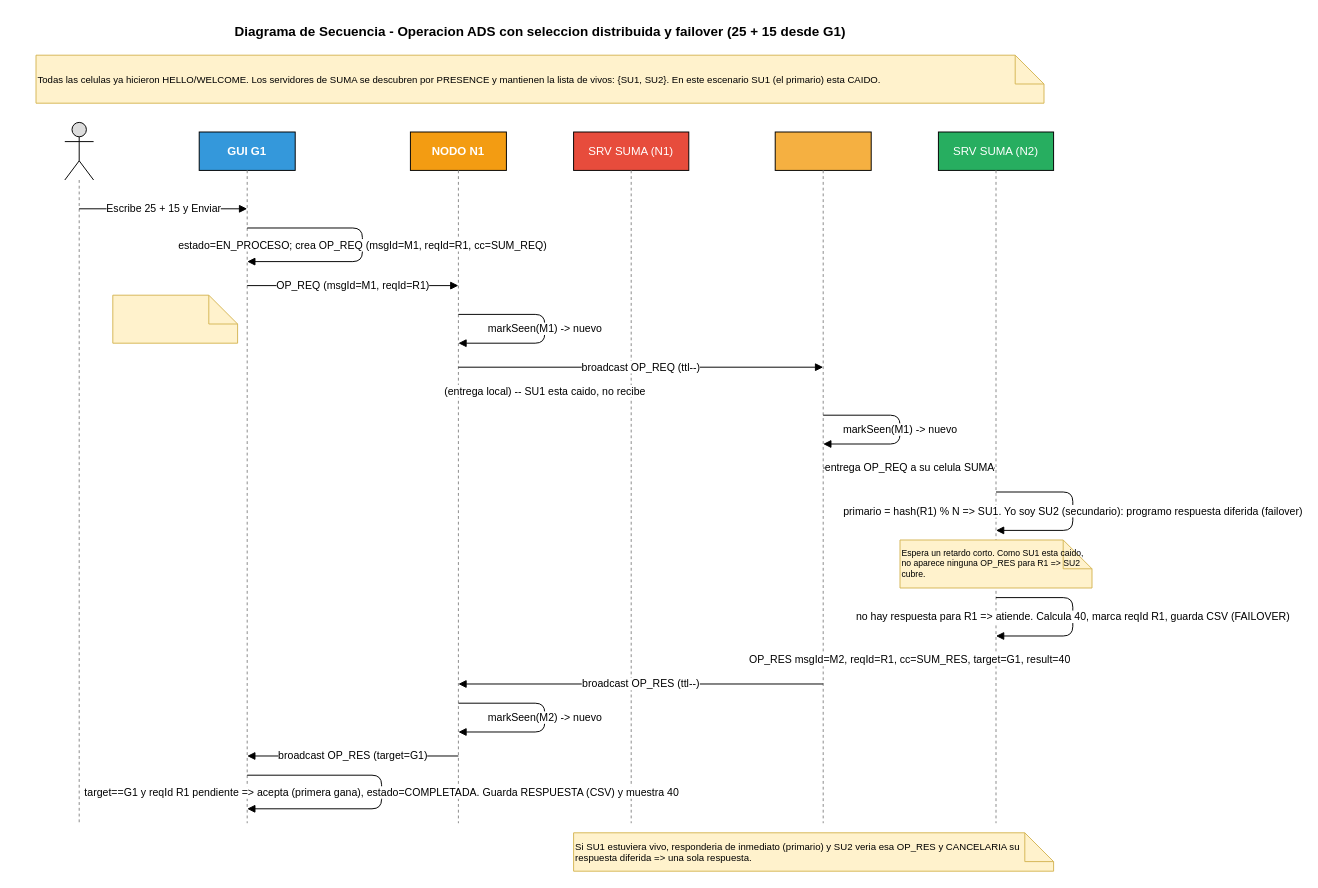
The diagram is 1318 pixels wide and 888 high, and some of its shapes have lost their labels. The centre of each missing label's shape, as x and y in pixels:
"arranca timeout (4s) y reintentos (si hiciera falta)" belongs at pixel 175 318.
"NODO N2" belongs at pixel 822 150.
"Usuario" belongs at pixel 79 150.
